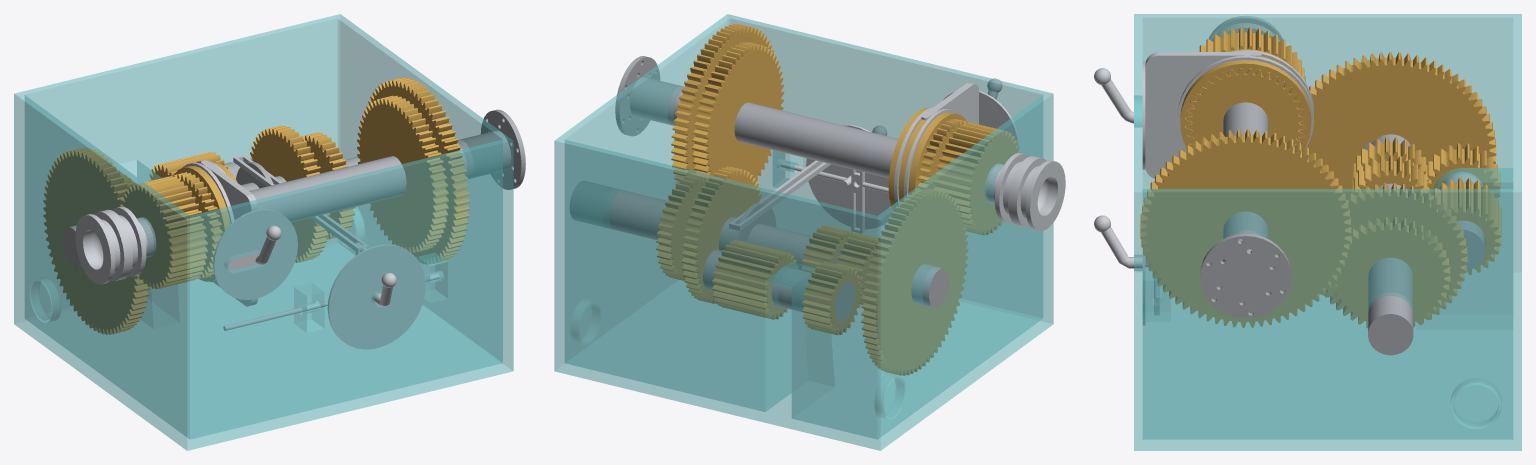
3 renders of one model, left to right at view 1: azimuth 30°, elevation 25°; view 2: azimuth 150°, elevation 25°; view 3: azimuth 270°, elevation 25°, orthographic. The views are drawn at different scales.
Parts seen in each view (by area): view 1: NAUO1, NAUO7, NAUO3, NAUO15, NAUO21, NAUO20, NAUO10, NAUO8, NAUO2, NAUO16, NAUO22, NAUO9 (+5 smaller); view 2: NAUO1, NAUO7, NAUO3, NAUO15, NAUO11, NAUO10, NAUO16, NAUO2, NAUO17, NAUO8, NAUO21, NAUO14 (+10 smaller); view 3: NAUO1, NAUO8, NAUO7, NAUO3, NAUO18, NAUO20, NAUO16, NAUO9, NAUO11, NAUO17, NAUO4, NAUO14 (+7 smaller).
Part boxes in pixels (<box>): NAUO1: <box>14,14,513,450</box>; NAUO7: <box>43,147,149,334</box>; NAUO3: <box>249,109,525,222</box>; NAUO15: <box>357,95,448,252</box>; NAUO21: <box>327,242,425,349</box>; NAUO20: <box>200,160,297,306</box>; NAUO10: <box>120,176,207,289</box>; NAUO8: <box>366,77,469,263</box>; NAUO2: <box>75,206,156,284</box>; NAUO16: <box>250,125,330,262</box>; NAUO22: <box>223,155,439,330</box>; NAUO9: <box>172,172,222,278</box>; NAUO1: <box>554,14,1053,450</box>; NAUO7: <box>861,188,968,375</box>; NAUO3: <box>615,56,898,178</box>; NAUO15: <box>692,42,784,181</box>; NAUO11: <box>570,181,843,269</box>; NAUO10: <box>933,122,1020,235</box>; NAUO16: <box>681,166,761,303</box>; NAUO2: <box>984,153,1065,230</box>; NAUO17: <box>712,240,797,319</box>; NAUO8: <box>671,23,775,183</box>; NAUO21: <box>806,124,892,229</box>; NAUO14: <box>802,262,862,335</box>; NAUO1: <box>1134,14,1521,450</box>; NAUO8: <box>1140,129,1351,327</box>; NAUO7: <box>1306,52,1496,200</box>; NAUO3: <box>1200,102,1291,318</box>; NAUO18: <box>1331,217,1450,328</box>; NAUO20: <box>1094,52,1262,178</box>; NAUO16: <box>1325,183,1467,326</box>; NAUO9: <box>1186,68,1305,145</box>; NAUO11: <box>1368,183,1413,355</box>; NAUO17: <box>1430,177,1501,275</box>; NAUO4: <box>1180,49,1311,150</box>; NAUO14: <box>1427,143,1500,197</box>.
Size of the model in its own units: 0.0468 by 0.0282 by 0.0375.
